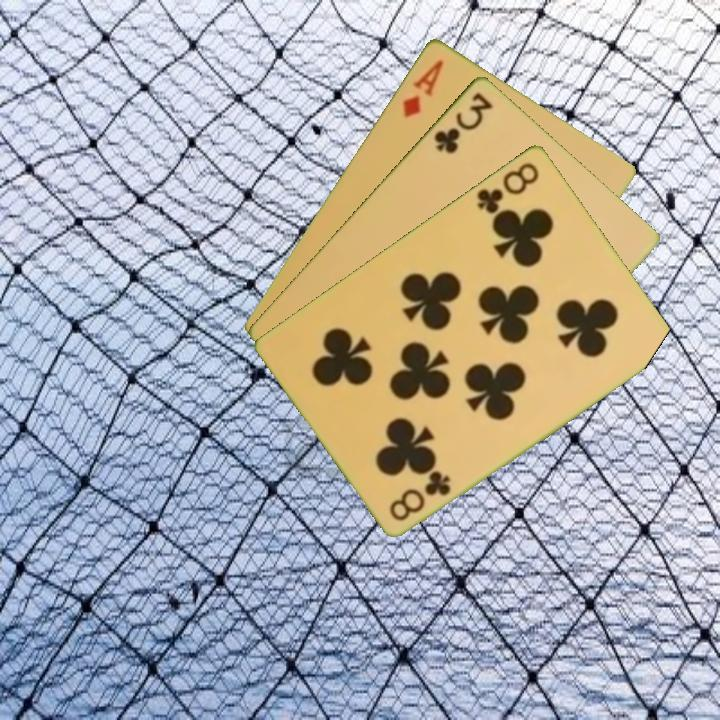3c: (430, 88, 496, 156)
8c: (473, 158, 542, 217), (385, 467, 454, 524)
Ad: (398, 55, 447, 121)
